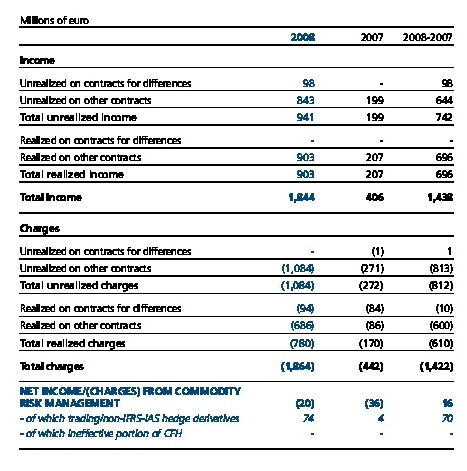table: (0, 0, 467, 471)
